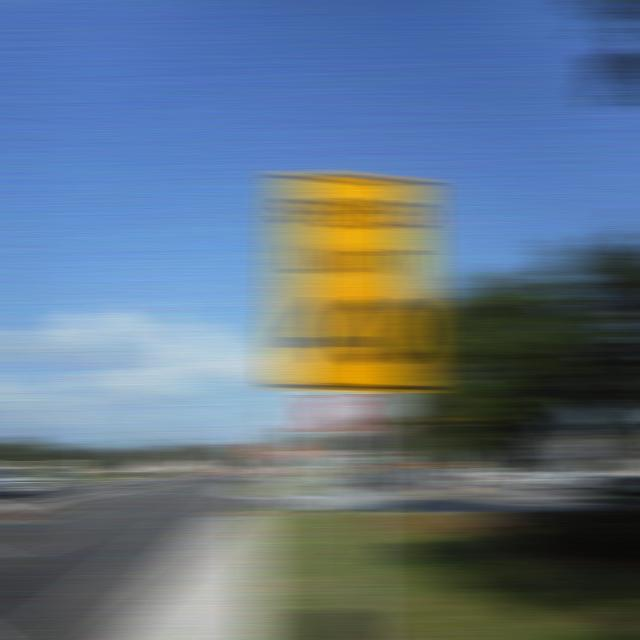speedLimit40: (276, 166, 430, 393)
